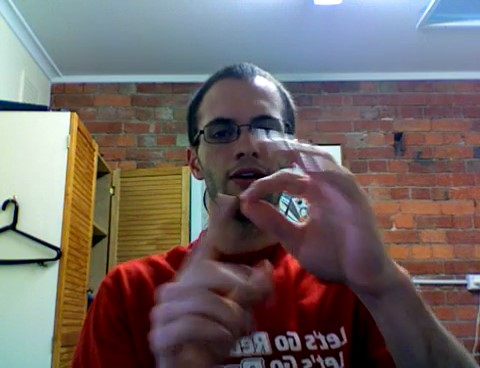P: (144, 125, 383, 365)
